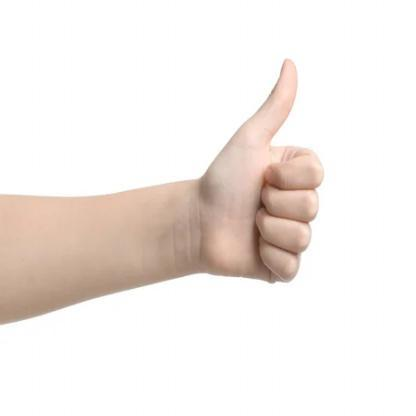thumb_up: (200, 57, 324, 286)
